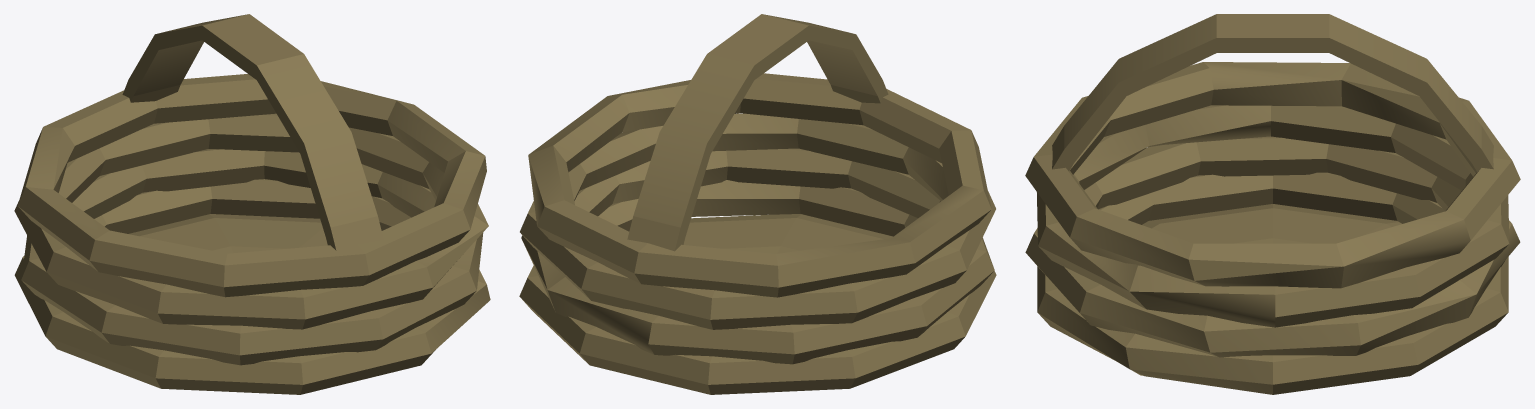
The model's file is zhulan.fbx.
3 views of the same model, side by side, from view 1: azimuth 30°, elevation 25°; view 2: azimuth 150°, elevation 25°; view 3: azimuth 270°, elevation 25° (orthographic). The views are drawn at different scales.
Visible parts, largest first — view 1: pTorus4, pTorus3, pTorus2, pTorus1, pCube1, pTorus5; view 2: pTorus4, pTorus3, pTorus2, pTorus1, pCube1, pTorus5; view 3: pTorus4, pTorus3, pTorus2, pTorus1, pCube1, pTorus5.
Boxes of the visible parts, bbox=[...] form: pTorus4: bbox=[17, 74, 486, 297]; pTorus3: bbox=[14, 113, 488, 329]; pTorus2: bbox=[21, 149, 483, 365]; pTorus1: bbox=[14, 179, 490, 394]; pCube1: bbox=[122, 14, 383, 250]; pTorus5: bbox=[129, 214, 327, 253]; pTorus4: bbox=[528, 73, 991, 297]; pTorus3: bbox=[520, 113, 995, 329]; pTorus2: bbox=[521, 148, 994, 364]; pTorus1: bbox=[519, 180, 996, 394]; pCube1: bbox=[627, 14, 888, 251]; pTorus5: bbox=[683, 214, 892, 253]; pTorus4: bbox=[1025, 62, 1520, 288]; pTorus3: bbox=[1037, 105, 1509, 327]; pTorus2: bbox=[1025, 136, 1520, 357]; pTorus1: bbox=[1037, 172, 1508, 394]; pCube1: bbox=[1052, 14, 1493, 171]; pTorus5: bbox=[1120, 204, 1401, 375].
Bounding box in the file's own units: 4.4 × 2.79 × 4.4.
